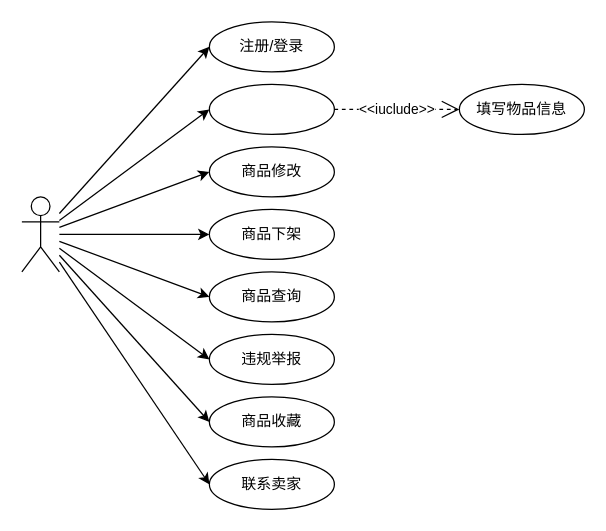
Image size: 606x531. Some labels were removed from this diagram. The centre of each missing label's shape, as x and y in pixels:
"商品上传" goes at point (271, 108).
"用户" goes at point (40, 234).
